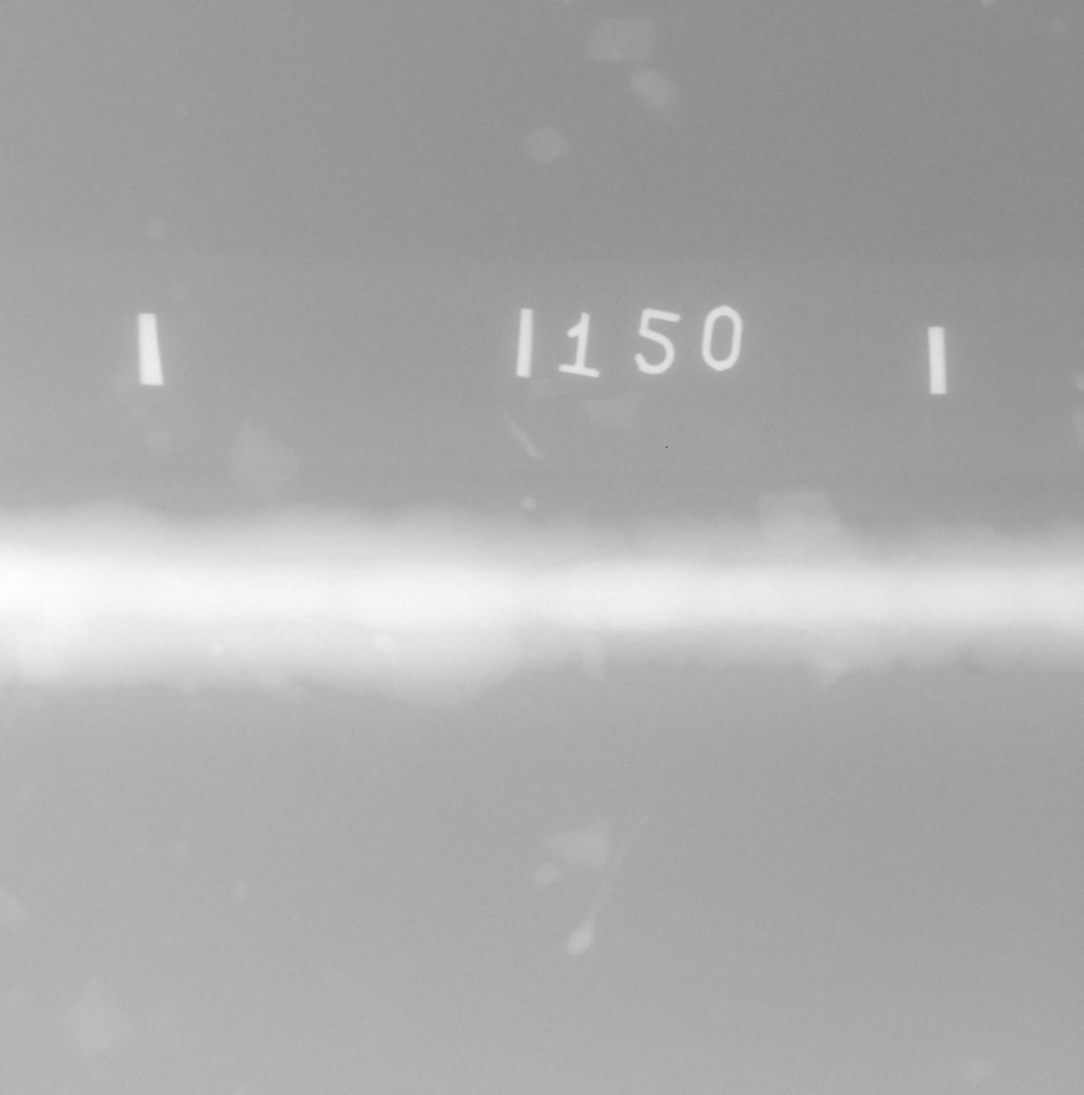Inclusion: (797, 631, 804, 635)
Undercut: (963, 667, 980, 675)
